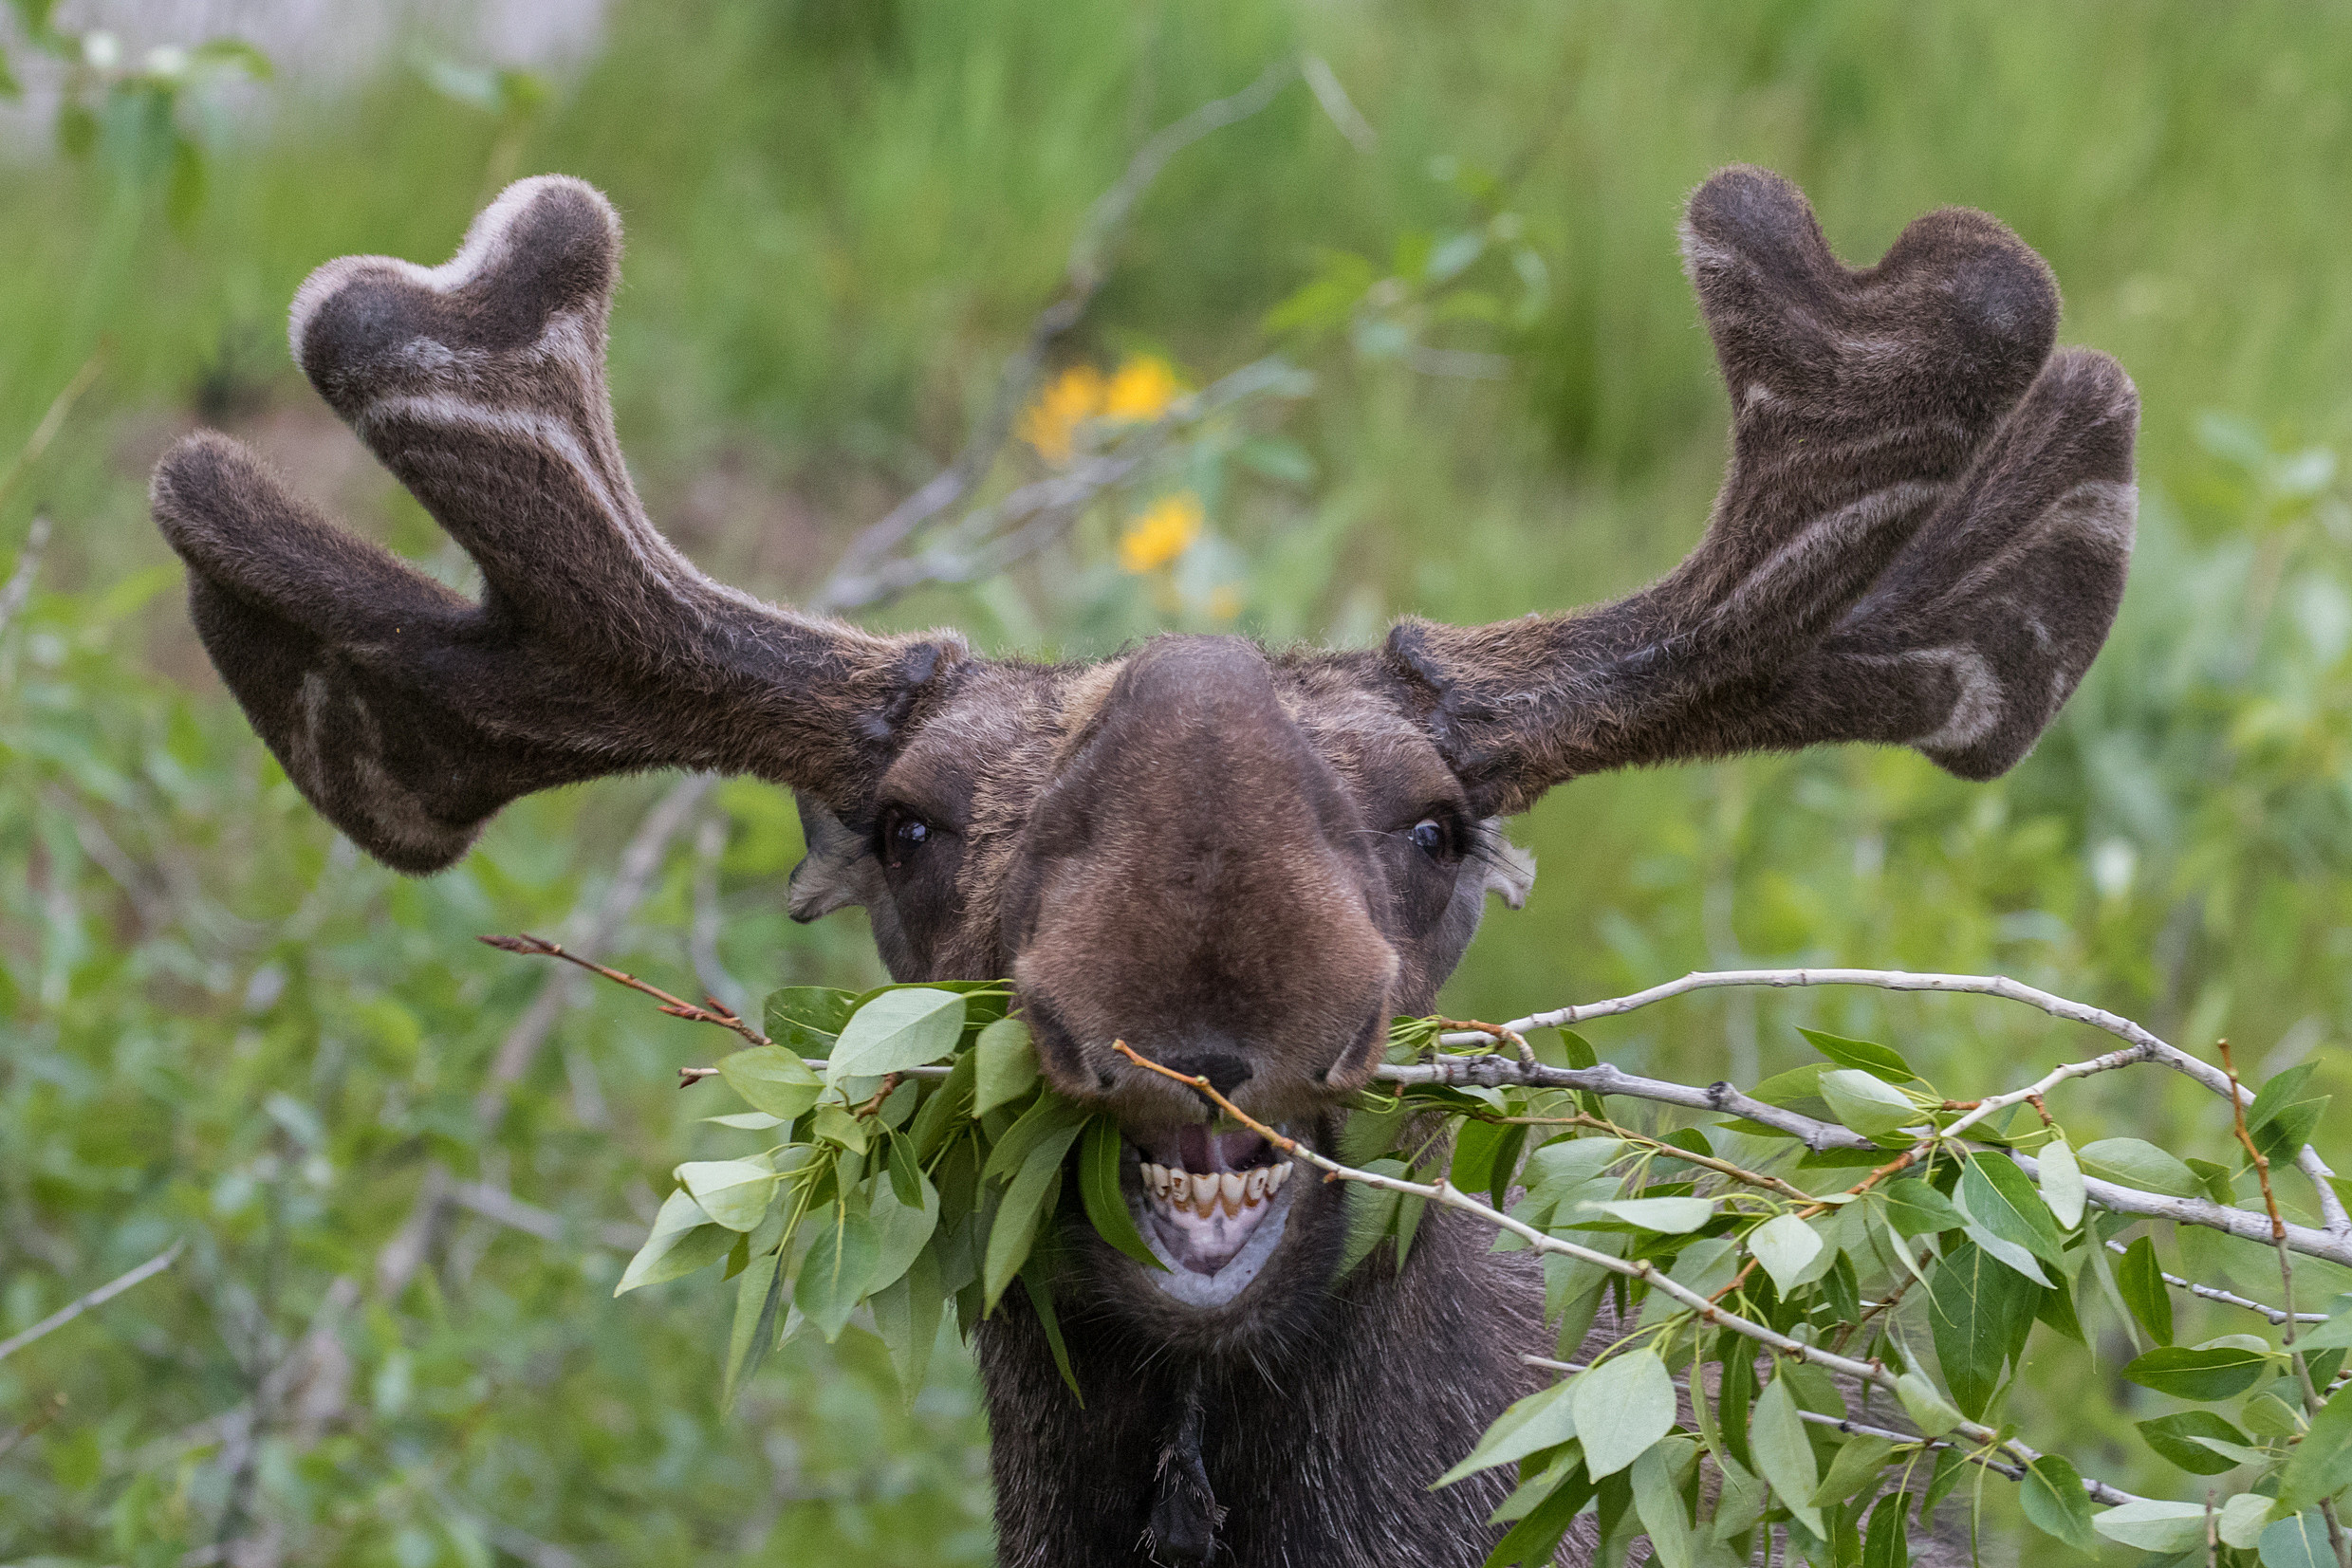moose: (138, 122, 2177, 1559)
